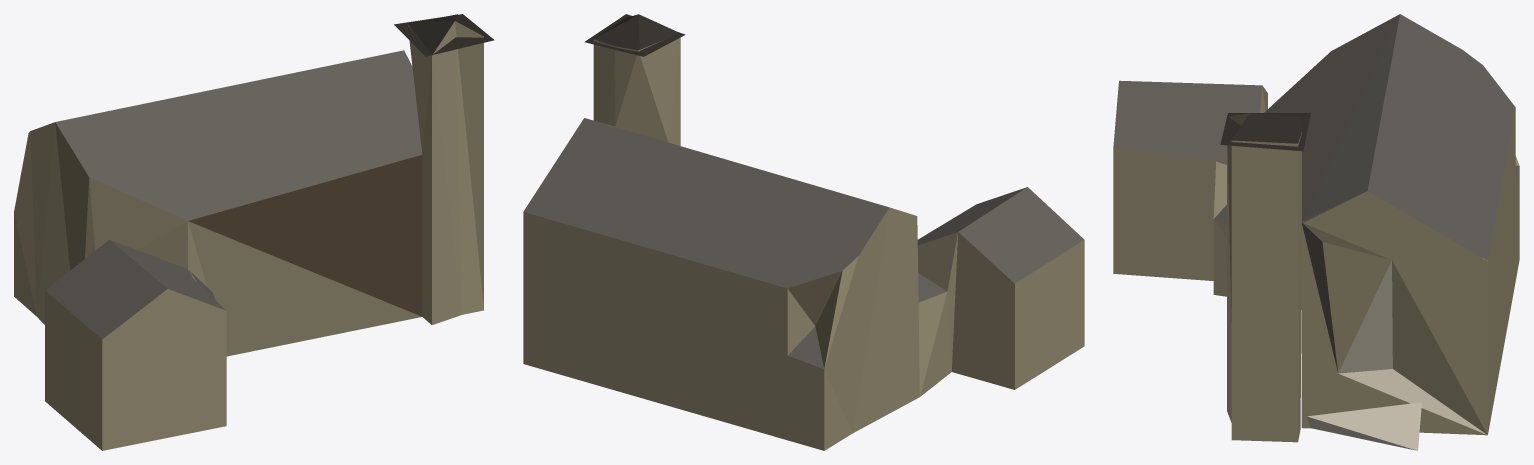
The model's file is maarten-lutherkerk.lod2.glb.
3 views of the same model, side by side, from view 1: azimuth 30°, elevation 25°; view 2: azimuth 150°, elevation 25°; view 3: azimuth 270°, elevation 25° (orthographic). The views are drawn at different scales.
Parts seen in each view (by area): view 1: lod2; view 2: lod2; view 3: lod2.
Part boxes in pixels (x1=…): lod2: x1=14, y1=14, x2=494, y2=450; lod2: x1=523, y1=14, x2=1084, y2=450; lod2: x1=1113, y1=14, x2=1519, y2=450.
Size of the model in its own units: 34.11 by 20.89 by 24.36.
